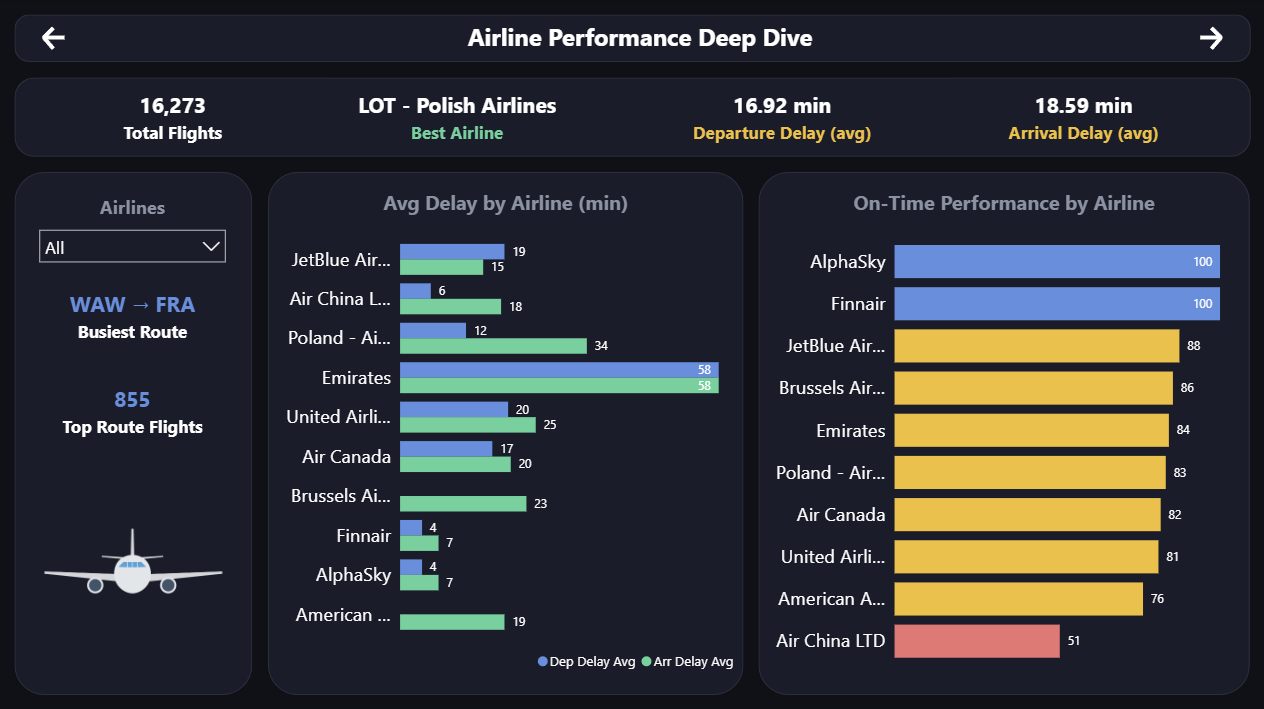

The page's visual inventory and layout, read from the dashboard file:
{"tool":"powerbi","page":{"name":"Airline Performance","canvas":[1280,720],"ordinal":1},"visuals":[{"type":"shape","box":[16,16,1248,48],"z":0},{"type":"shape","box":[16,176,240,528],"z":1000},{"type":"shape","box":[272,176,480,528],"z":2000},{"type":"shape","box":[16,80,1248,80],"z":3000},{"type":"shape","box":[768,176,496,528],"z":4000},{"type":"textbox","box":[336,16,624,48],"z":5000},{"type":"cardVisual","fields":{"Data":["public fact_flight.Total Flights"]},"box":[48,64,256,112],"z":6000},{"type":"cardVisual","fields":{"Data":["public kpi_avg_departure_delay.Avg Departure Delay"]},"box":[656,64,272,112],"z":7000},{"type":"cardVisual","fields":{"Data":["public kpi_avg_arrival_delay.Avg Arrival Delay"]},"box":[960,64,272,112],"z":8000},{"type":"cardVisual","fields":{"Data":["public kpi_avg_departure_delay.Best Airline"]},"box":[320,64,288,112],"z":9000},{"type":"slicer","fields":{"Values":["public dim_airline.airline_name"]},"box":[32,224,208,48],"z":10000},{"type":"textbox","box":[32,192,208,48],"z":11000},{"type":"clusteredBarChart","title":"On-Time Performance by Airline","fields":{"Category":["public dim_airline.airline_name"],"Y":["public dim_airline.On Time % by Airline"]},"box":[768,192,496,496],"z":12000},{"type":"clusteredBarChart","title":"Avg Delay by Airline (min)","fields":{"Category":["public dim_airline.airline_name"],"Y":["public kpi_avg_arrival_delay.Dep Delay Avg","public kpi_avg_arrival_delay.Arr Delay Avg"]},"box":[272,192,480,496],"z":13000},{"type":"cardVisual","fields":{"Data":["public kpi_busiest_routes.Top Route"]},"box":[32,272,208,96],"z":14000},{"type":"cardVisual","fields":{"Data":["Max(public kpi_busiest_routes.flight_count)"]},"box":[32,368,208,96],"z":15000},{"type":"image","box":[16,416,240,304],"z":16000},{"type":"actionButton","box":[1184,16,80,48],"z":17000},{"type":"actionButton","box":[16,16,80,48],"z":18001}]}

Visuals, with their boxes in screenshot pixels (x1, y1, x2, y2), scaled from the page's 1280x720 canvas onto the 1264x709 screenshot:
shape: (left=16, top=16, right=1248, bottom=63)
shape: (left=16, top=173, right=253, bottom=693)
shape: (left=269, top=173, right=743, bottom=693)
shape: (left=16, top=79, right=1248, bottom=158)
shape: (left=758, top=173, right=1248, bottom=693)
textbox: (left=332, top=16, right=948, bottom=63)
cardVisual - public fact_flight.Total Flights: (left=47, top=63, right=300, bottom=173)
cardVisual - public kpi_avg_departure_delay.Avg Departure Delay: (left=648, top=63, right=916, bottom=173)
cardVisual - public kpi_avg_arrival_delay.Avg Arrival Delay: (left=948, top=63, right=1217, bottom=173)
cardVisual - public kpi_avg_departure_delay.Best Airline: (left=316, top=63, right=600, bottom=173)
slicer - public dim_airline.airline_name: (left=32, top=221, right=237, bottom=268)
textbox: (left=32, top=189, right=237, bottom=236)
"On-Time Performance by Airline" clusteredBarChart: (left=758, top=189, right=1248, bottom=677)
"Avg Delay by Airline (min)" clusteredBarChart: (left=269, top=189, right=743, bottom=677)
cardVisual - public kpi_busiest_routes.Top Route: (left=32, top=268, right=237, bottom=362)
cardVisual - Max(public kpi_busiest_routes.flight_count): (left=32, top=362, right=237, bottom=457)
image: (left=16, top=410, right=253, bottom=708)
actionButton: (left=1169, top=16, right=1248, bottom=63)
actionButton: (left=16, top=16, right=95, bottom=63)
